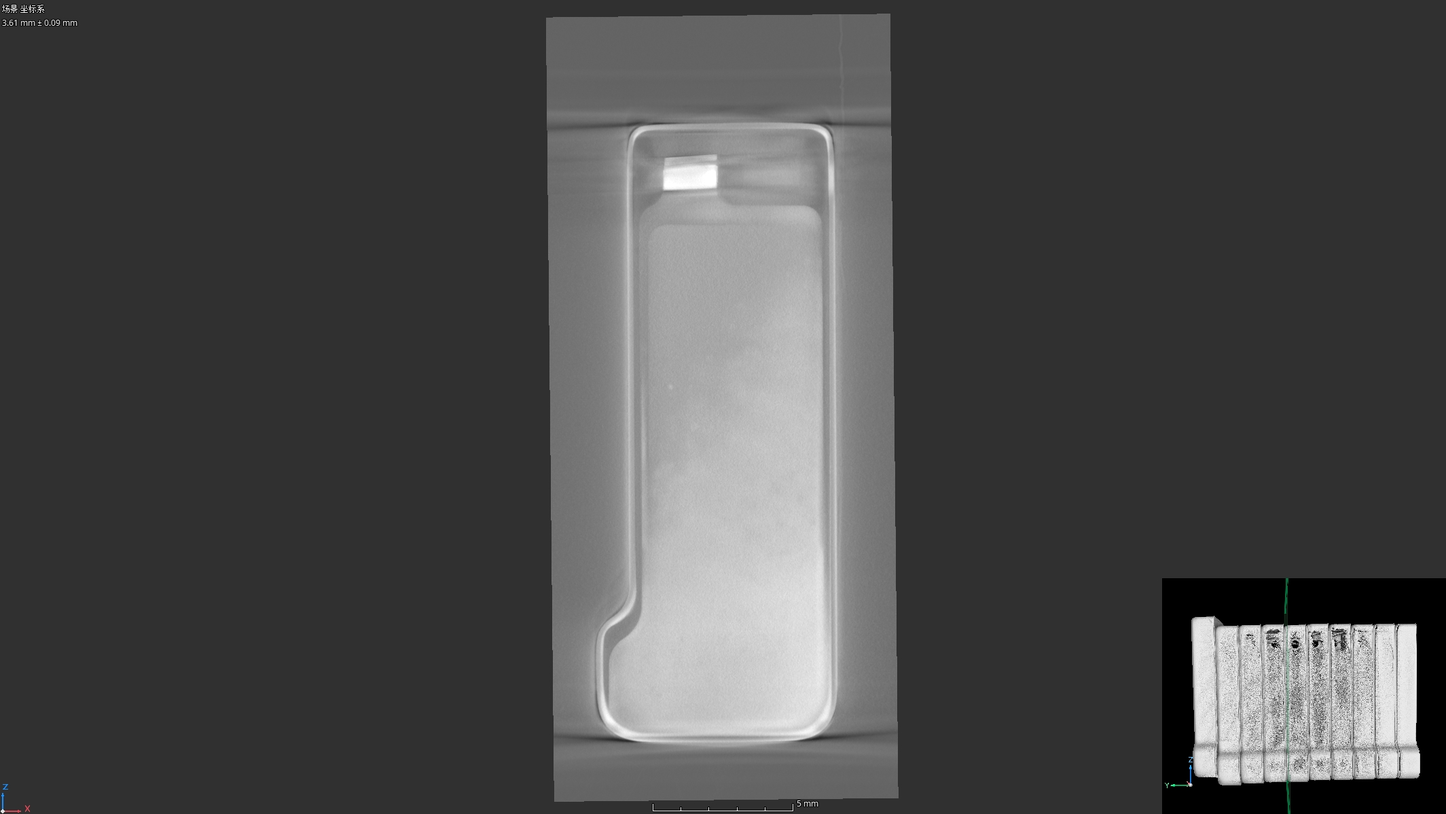light: (667, 384, 674, 391)
